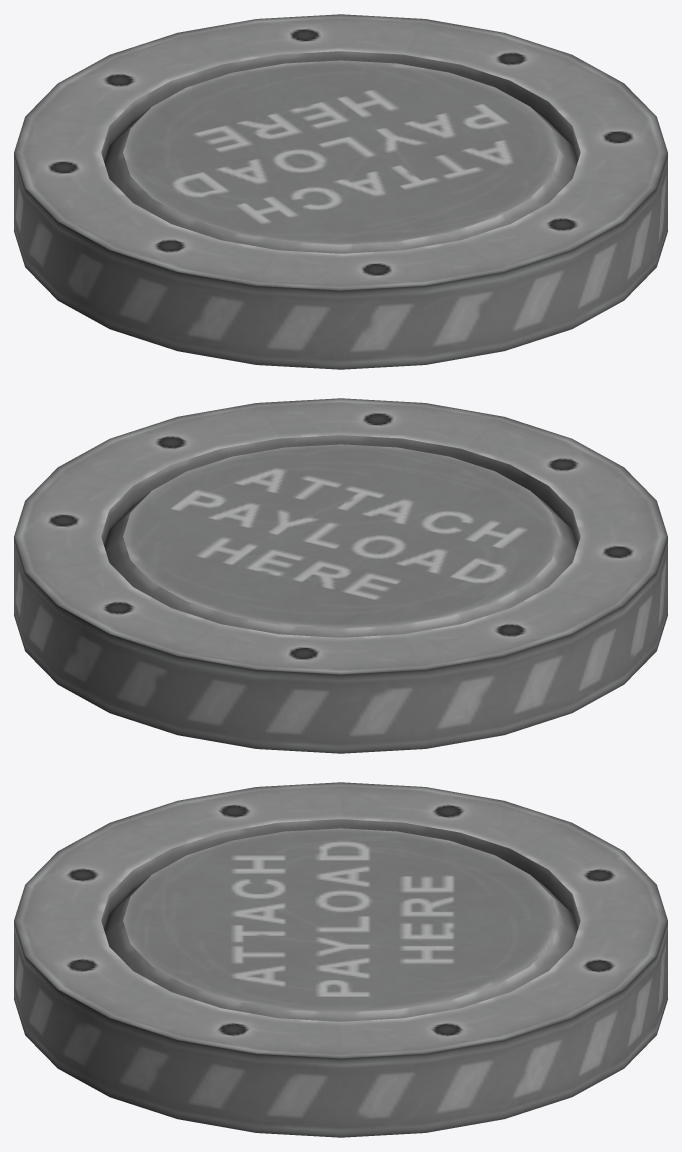
Rendered from canopus_fairing_s0p5_1.obj.
3 views of the same model, one above another, from view 1: azimuth 30°, elevation 25°; view 2: azimuth 150°, elevation 25°; view 3: azimuth 270°, elevation 25° (orthographic).
Parts seen in each view (by area): view 1: canopus_fairing_s0p5_1; view 2: canopus_fairing_s0p5_1; view 3: canopus_fairing_s0p5_1.
Boxes of the visible parts, <box> form: canopus_fairing_s0p5_1: <box>14,14,667,369</box>; canopus_fairing_s0p5_1: <box>14,398,667,753</box>; canopus_fairing_s0p5_1: <box>14,782,667,1137</box>.
Size of the model in its own units: 0.9375 by 0.125 by 0.9375.
